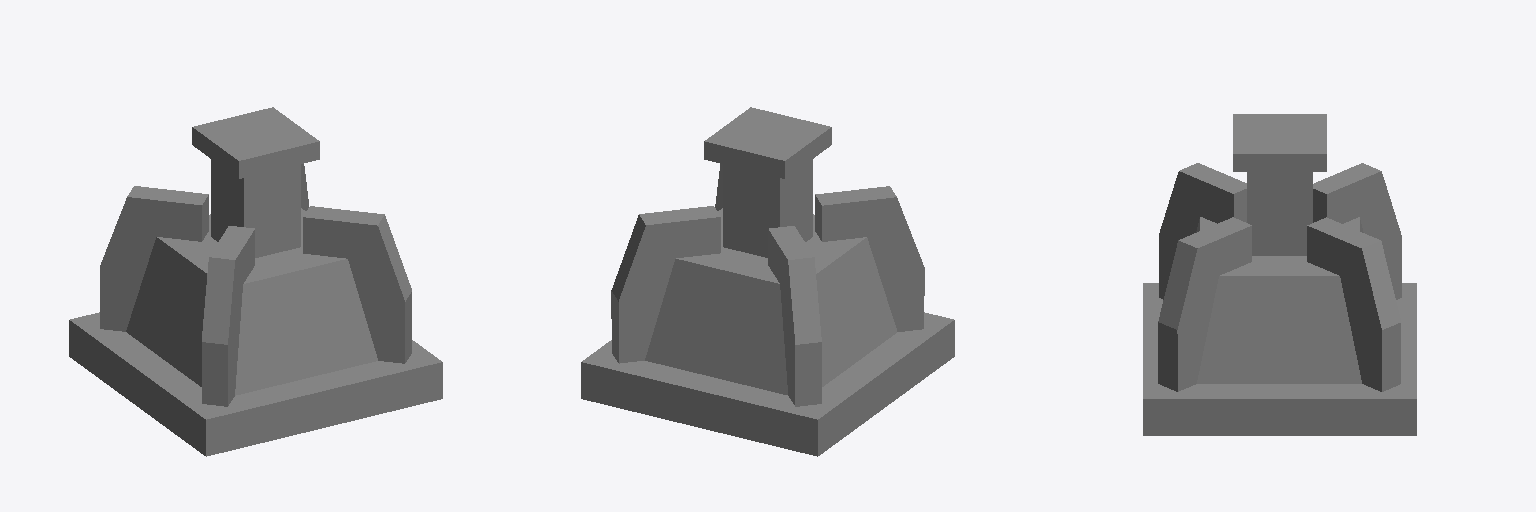
The model's file is ip_gen.obj.
3 views of the same model, side by side, from view 1: azimuth 30°, elevation 25°; view 2: azimuth 150°, elevation 25°; view 3: azimuth 270°, elevation 25° (orthographic).
Parts seen in each view (by area): view 1: Base, Core; view 2: Base, Core; view 3: Base, Core.
Part boxes in pixels (left/top/right/bottom): Base: left=69, top=164, right=442, bottom=456; Core: left=192, top=107, right=319, bottom=257; Base: left=581, top=164, right=954, bottom=456; Core: left=704, top=107, right=831, bottom=257; Base: left=1143, top=163, right=1416, bottom=435; Core: left=1233, top=114, right=1326, bottom=255.
Bounding box in the file's own units: 1 × 0.9834 × 1.